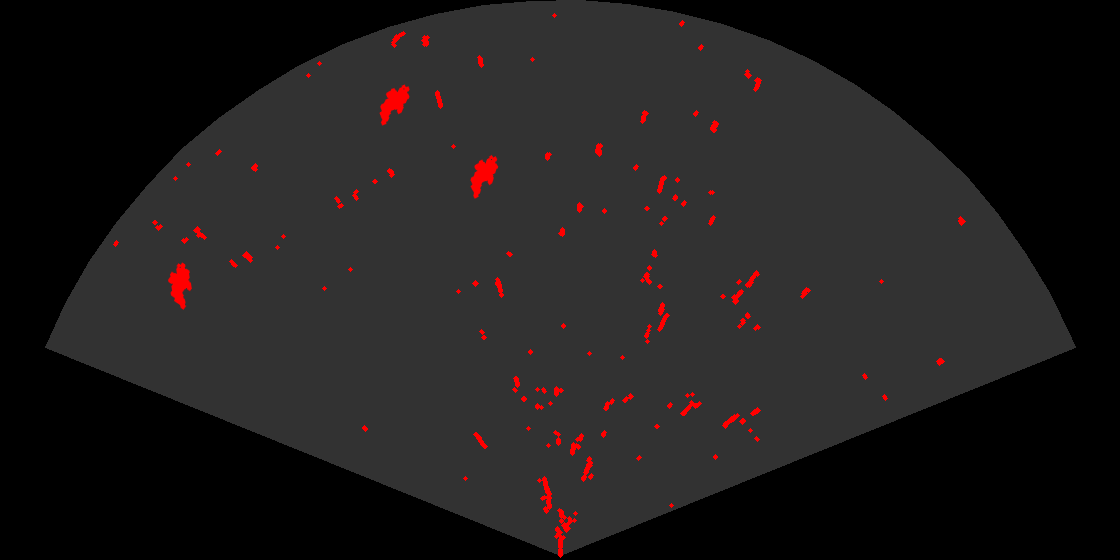AUV: (469, 153, 500, 200), (378, 83, 411, 127), (166, 261, 193, 311)
